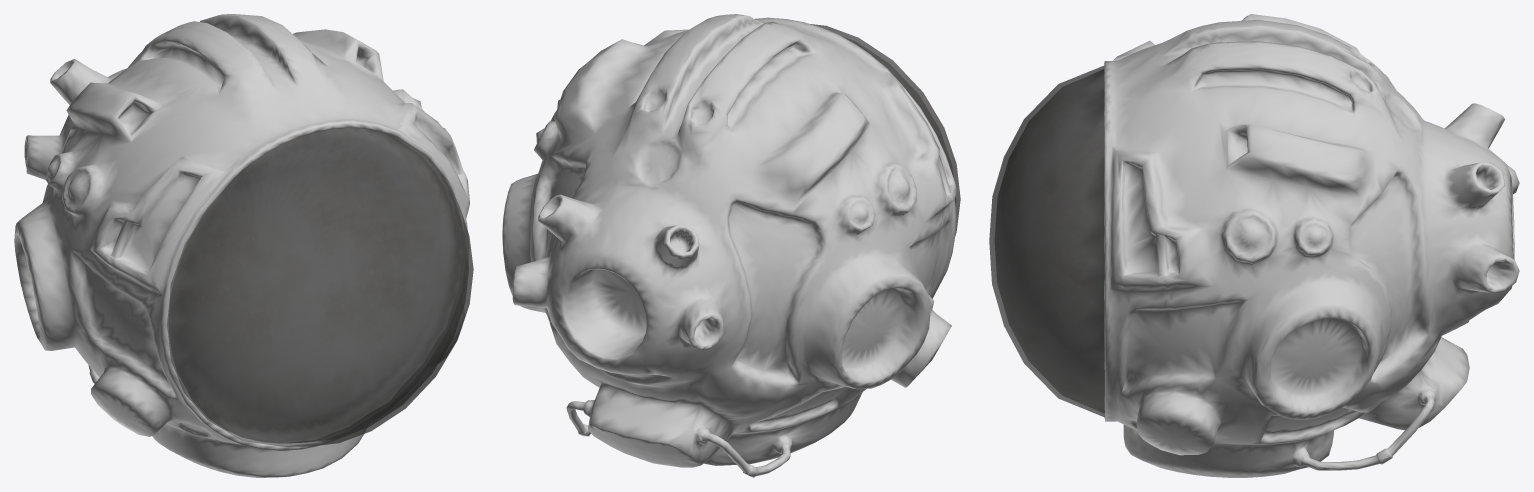
The model's file is SpaceShip.fbx.
3 renders of one model, left to right at view 1: azimuth 30°, elevation 25°; view 2: azimuth 150°, elevation 25°; view 3: azimuth 270°, elevation 25°, orthographic. The views are drawn at different scales.
Visible parts, largest first — view 1: Capsule, Glass; view 2: Capsule, Glass; view 3: Capsule, Glass.
Boxes of the visible parts, box(x1,y1,x2,y2) form: Capsule: box(14, 14, 469, 477); Glass: box(167, 127, 473, 446); Capsule: box(502, 14, 956, 477); Glass: box(810, 24, 960, 235); Capsule: box(1104, 14, 1519, 477); Glass: box(989, 65, 1104, 417).
Size of the model in its own units: 40007 by 39408 by 44309.
